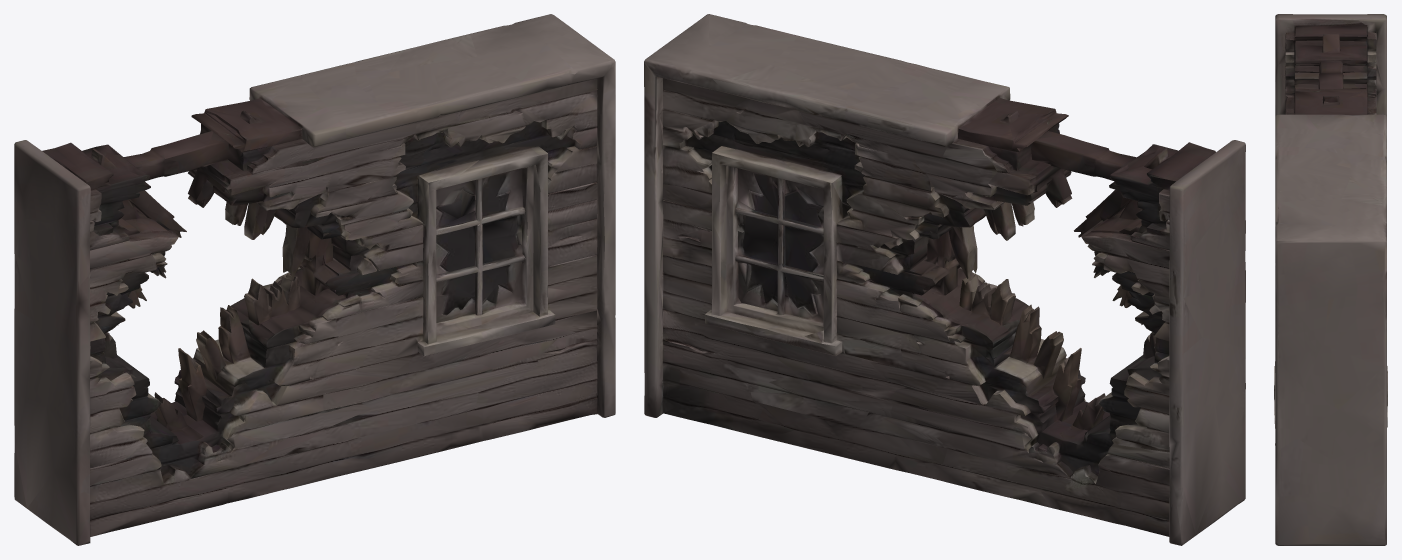
File: facade_wood_window_ruined_idle.glb
3 views of the same model, side by side, from view 1: azimuth 30°, elevation 25°; view 2: azimuth 150°, elevation 25°; view 3: azimuth 270°, elevation 25° (orthographic). The views are drawn at different scales.
Visible parts, largest first — view 1: tripo_node_bca08afd-1a5a-44c4-93d4-9959621d8754; view 2: tripo_node_bca08afd-1a5a-44c4-93d4-9959621d8754; view 3: tripo_node_bca08afd-1a5a-44c4-93d4-9959621d8754.
Boxes of the visible parts, box(x1,y1,x2,y2) form: tripo_node_bca08afd-1a5a-44c4-93d4-9959621d8754: box(14, 14, 615, 545); tripo_node_bca08afd-1a5a-44c4-93d4-9959621d8754: box(644, 14, 1245, 545); tripo_node_bca08afd-1a5a-44c4-93d4-9959621d8754: box(1274, 14, 1387, 545).
Bounding box in the file's own units: 3 × 1.92 × 0.6393.
1 material, 1 textured.
